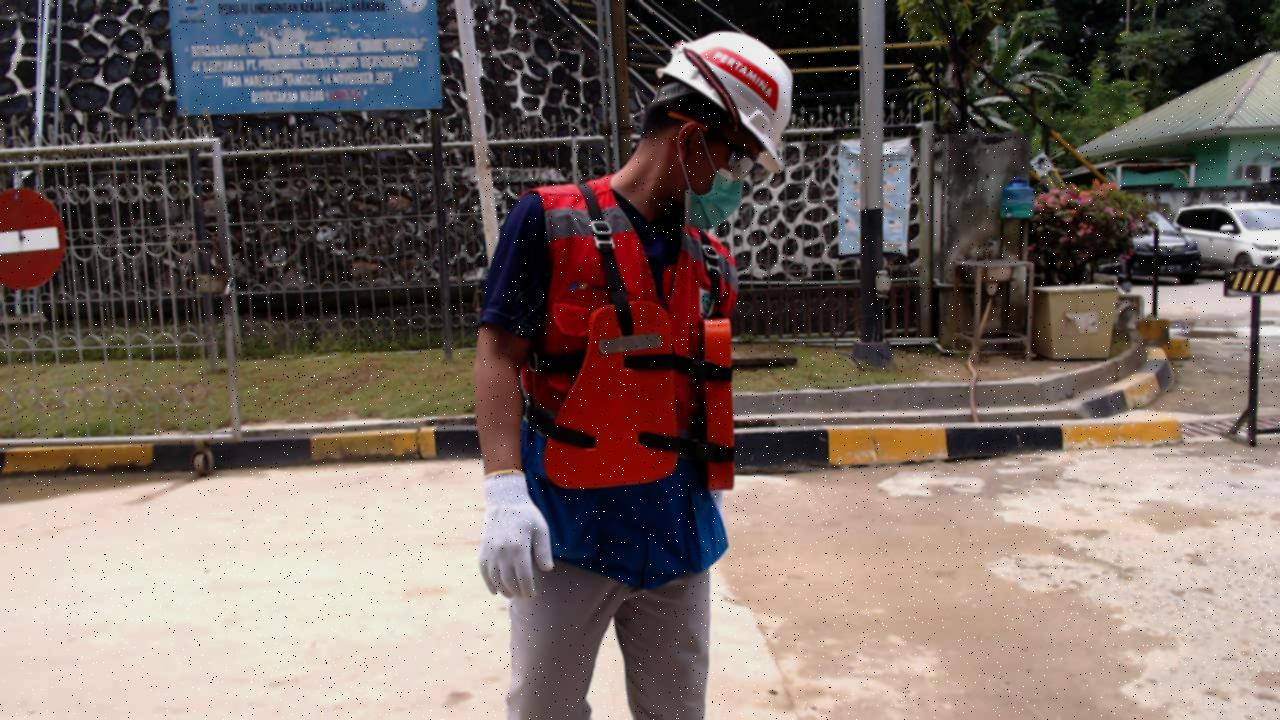glasses: (689, 113, 761, 181)
gloves: (477, 470, 556, 598)
helmet: (658, 28, 793, 176)
mask: (684, 165, 746, 233)
vest: (544, 294, 739, 493)
